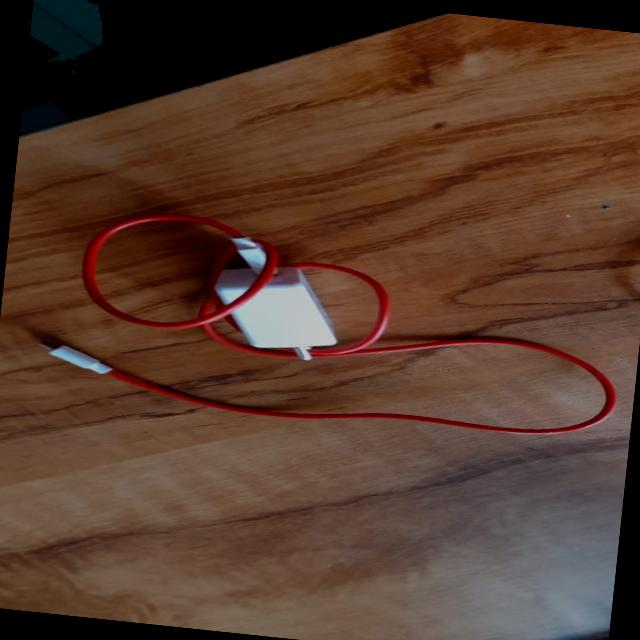Charger - Recyclable: (204, 256, 347, 362)
